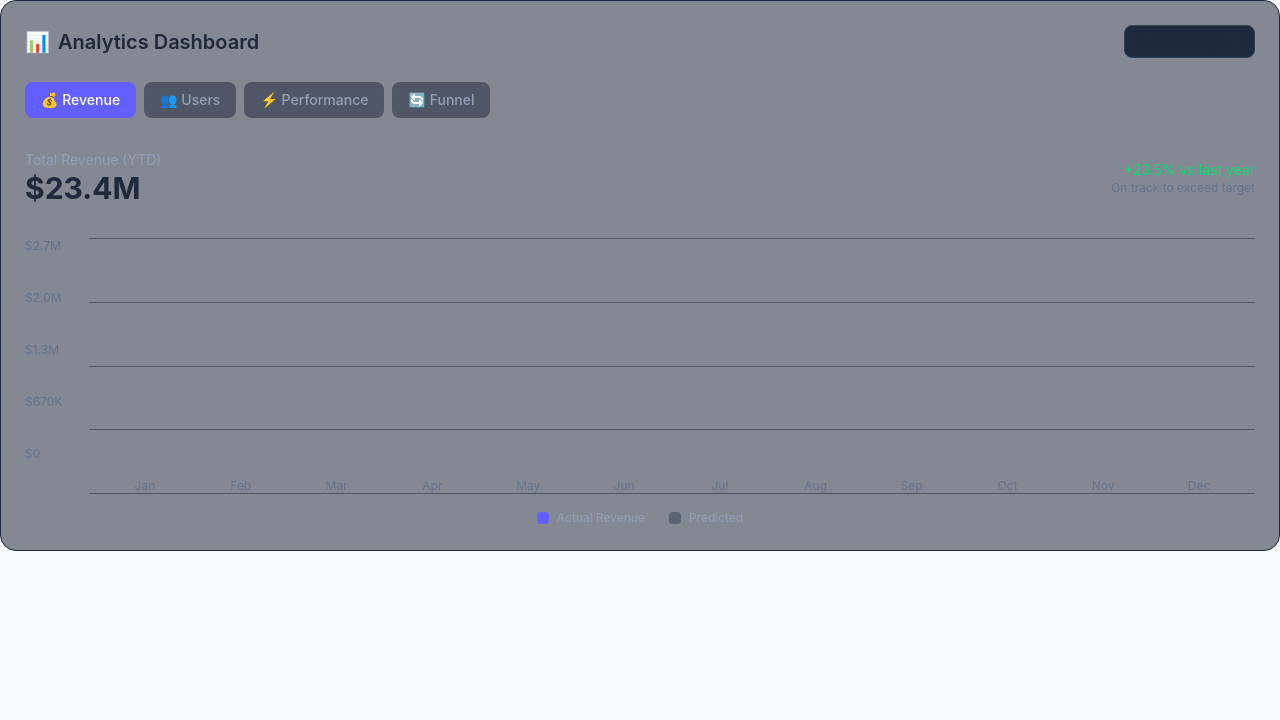
Test case: InteractiveCharts Component › Performance Chart › should display all KPI metrics
What coordinates should you click on to do the following:
click the button "⚡ Performance"
I would click on:
 (314, 100)
Its box is [244,82,384,118].
Wait 1500 ms
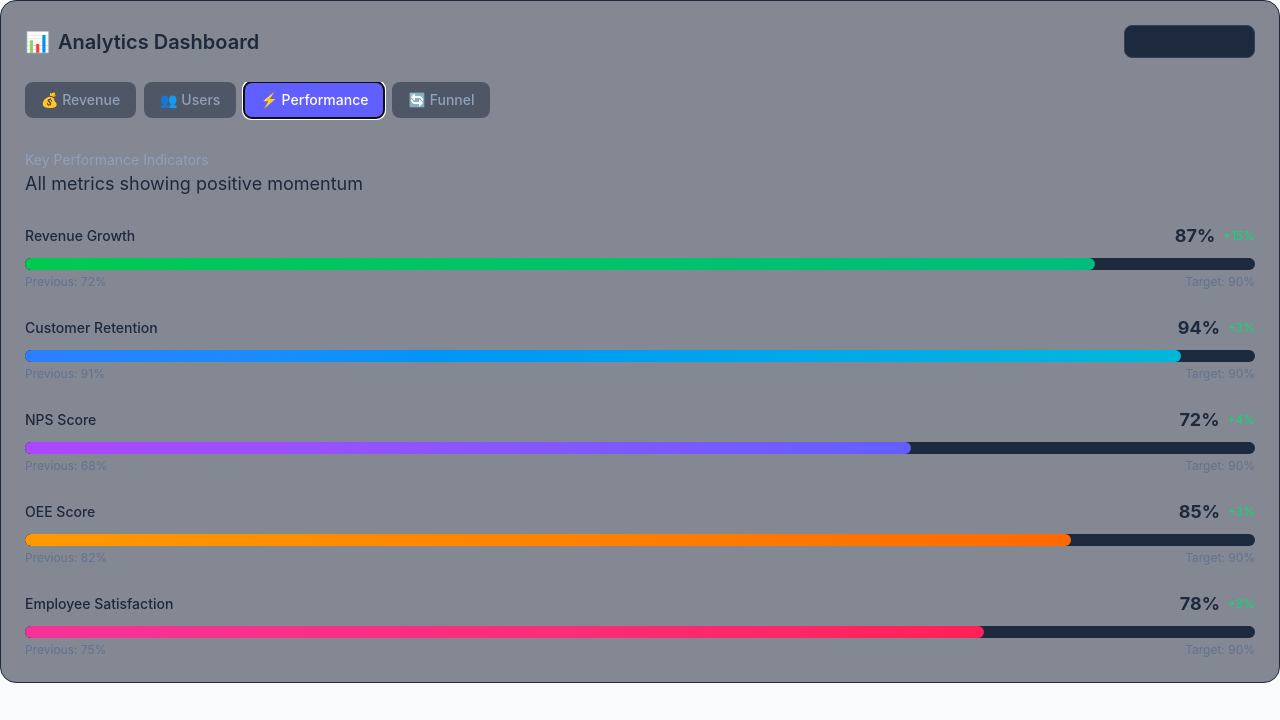
Expected: the text "Revenue Growth" is shown, [25,226,135,246]
Expected: the text "Customer Retention" is shown, [25,318,158,338]
Expected: the text "NPS Score" is shown, [25,410,96,430]
